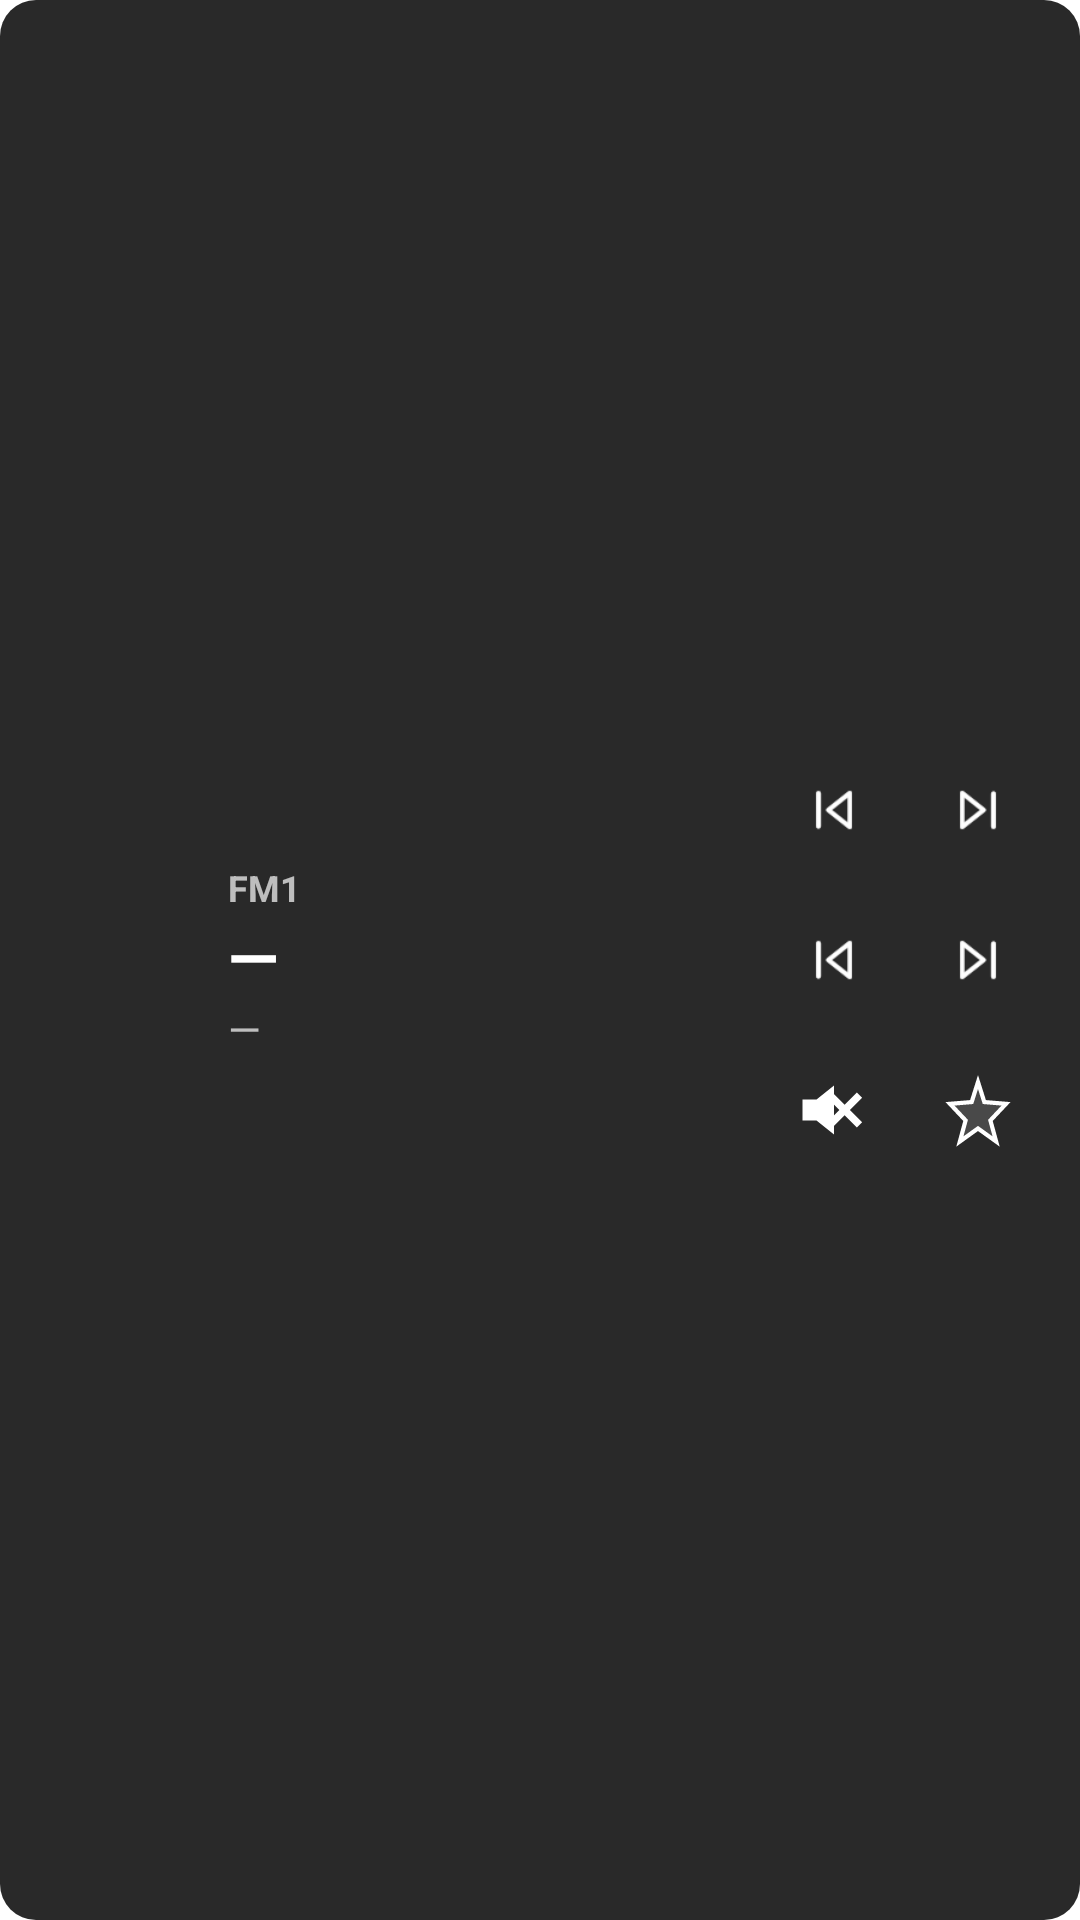

Named icons in this screenshot (1080w x 1920h) and their centers, [x,y]:
widget mute: [832,1110]
widget star: [978,1111]
